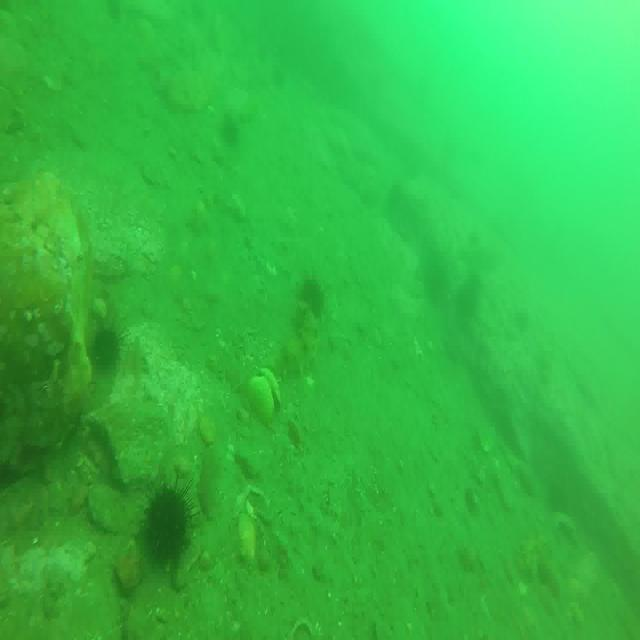echinus: (142, 486, 190, 566), (92, 326, 122, 370)
holothurian: (284, 301, 318, 380)
scallop: (249, 365, 282, 426)
